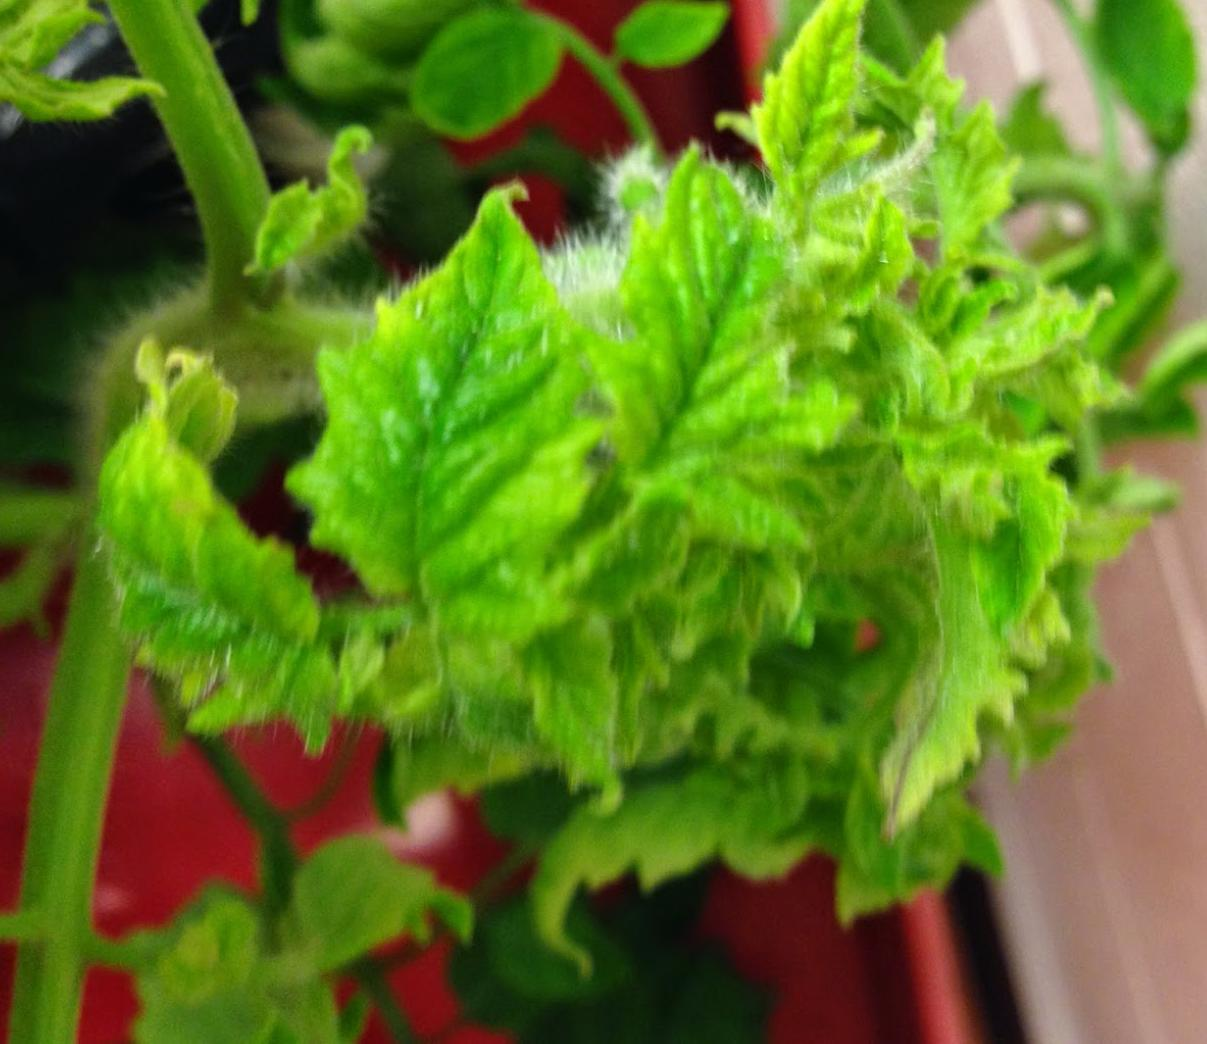Tomato leaf yellow virus: (275, 167, 573, 683), (592, 84, 802, 579), (94, 304, 322, 748)
